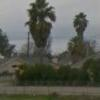Palm tree: (23, 3, 96, 56)
